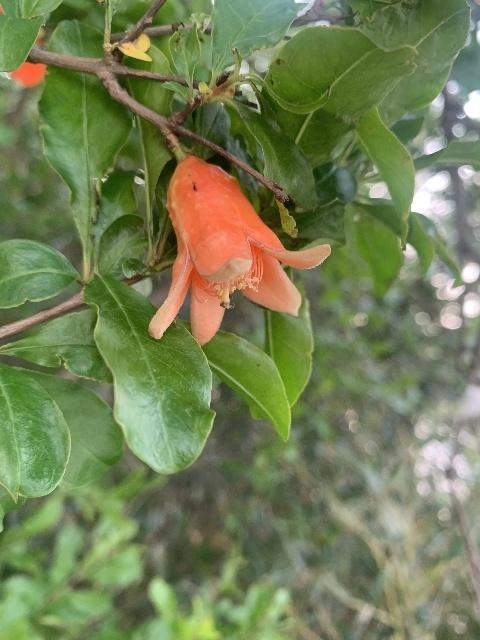flower: (146, 156, 331, 346)
